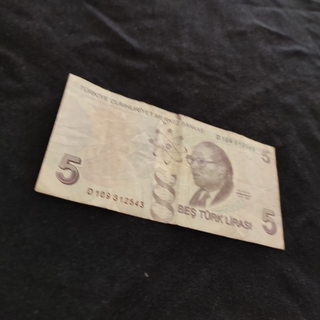5TLBack: (32, 70, 286, 252)
